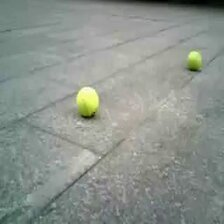tennis: (77, 88, 99, 113), (187, 51, 202, 67)
